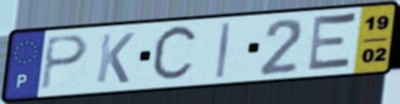2: (258, 16, 308, 78)
C: (149, 22, 202, 87)
E: (305, 10, 361, 74)
I: (214, 21, 233, 80)
K: (93, 30, 137, 85)
P: (39, 34, 90, 93)
